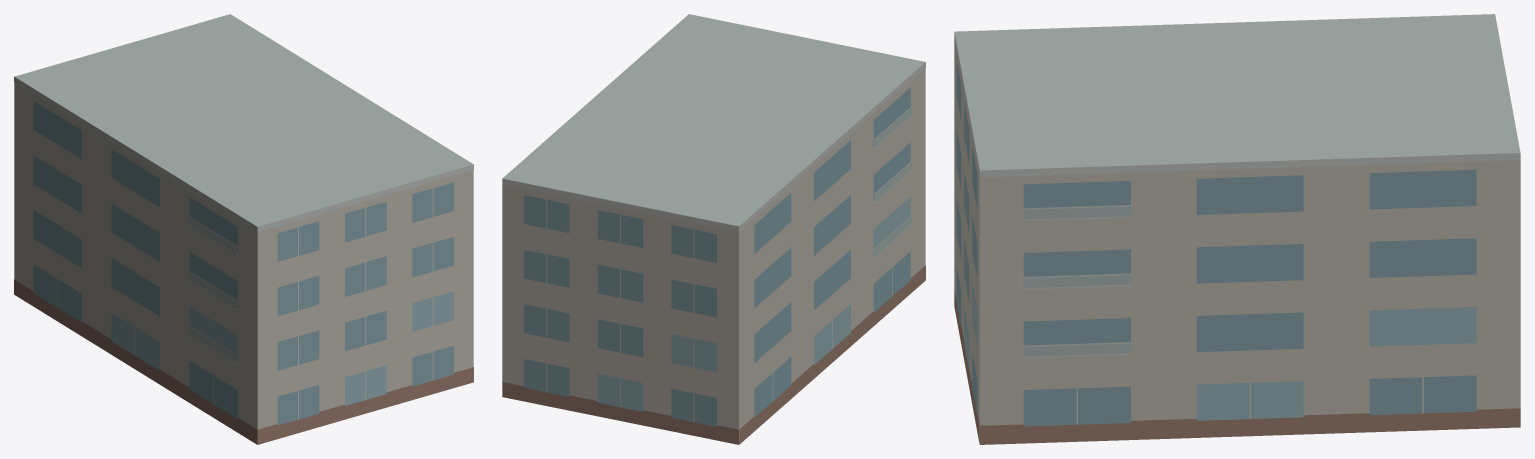
Rendered from survey-upis-32755224.glb.
3 views of the same model, side by side, from view 1: azimuth 30°, elevation 25°; view 2: azimuth 150°, elevation 25°; view 3: azimuth 270°, elevation 25° (orthographic). The views are drawn at different scales.
Visible parts, largest first — view 1: survey-upis-32755224.tmp; view 2: survey-upis-32755224.tmp; view 3: survey-upis-32755224.tmp.
Boxes of the visible parts, x1=… form: survey-upis-32755224.tmp: x1=14, y1=14, x2=473, y2=444; survey-upis-32755224.tmp: x1=502, y1=14, x2=925, y2=444; survey-upis-32755224.tmp: x1=954, y1=14, x2=1520, y2=444.
Size of the model in its own units: 11.75 by 9.6 by 17.97.
